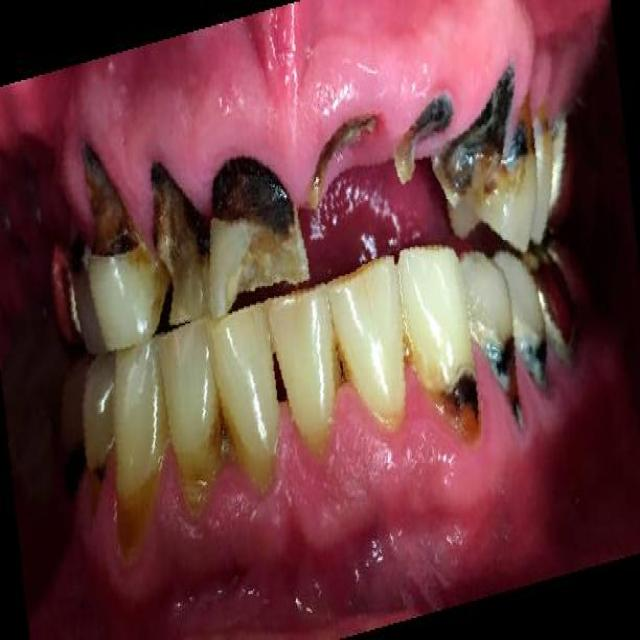caries: (213, 146, 305, 292), (78, 131, 146, 275), (149, 143, 209, 290), (454, 65, 512, 213), (310, 104, 378, 197), (391, 89, 449, 193), (329, 338, 360, 400)
